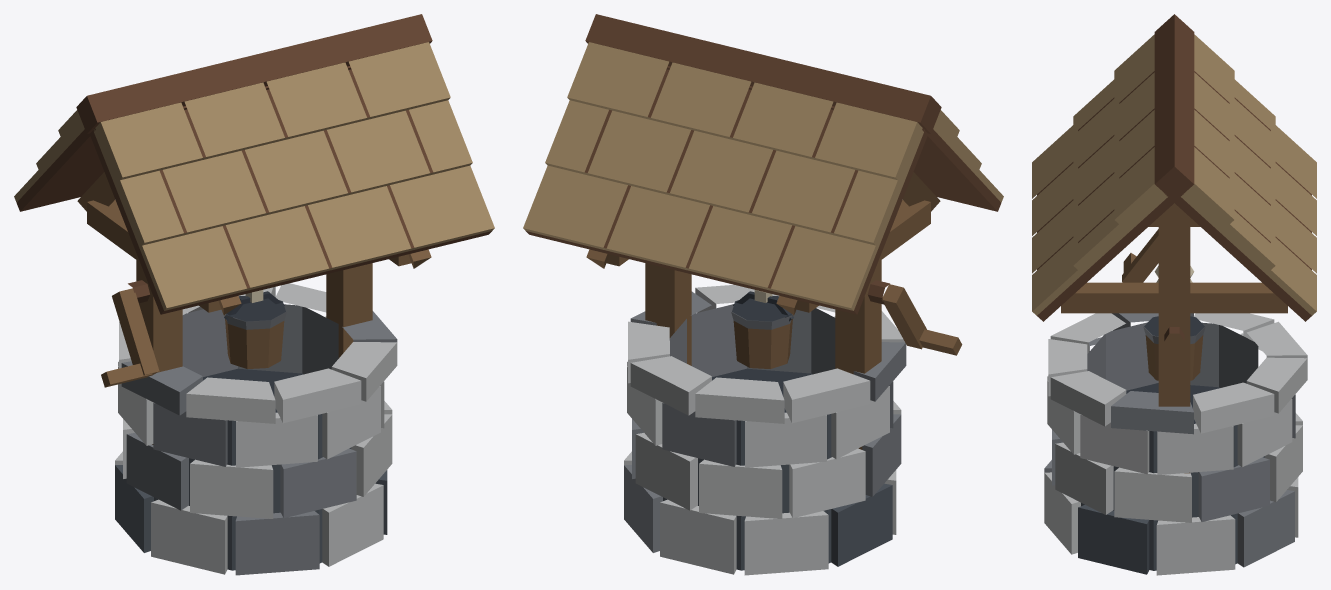
Rendered from village-well-f8e361.glb.
The picture shows the model from 3 angles, left to right: view 1: azimuth 30°, elevation 25°; view 2: azimuth 150°, elevation 25°; view 3: azimuth 270°, elevation 25°; orthographic projection. The views are drawn at different scales.
Visible parts, largest first — view 1: well-body, bucket-mesh, crank-mesh; view 2: well-body, bucket-mesh, crank-mesh; view 3: well-body, bucket-mesh, crank-mesh.
Boxes of the visible parts, x1,y1,x2,y2 form: well-body: (14, 14, 494, 575); bucket-mesh: (224, 291, 286, 368); crank-mesh: (101, 280, 159, 387); well-body: (523, 14, 1003, 575); bucket-mesh: (731, 291, 793, 368); crank-mesh: (867, 280, 962, 355); well-body: (1032, 14, 1316, 575); bucket-mesh: (1143, 316, 1205, 380); crank-mesh: (1122, 229, 1194, 340).
Size of the model in its own units: 1.96 by 2.56 by 1.53.
